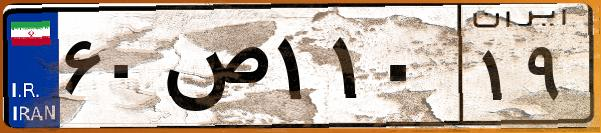0: (385, 28, 445, 110), (110, 28, 158, 98)
1: (270, 28, 330, 110), (330, 28, 385, 110), (475, 38, 525, 113)
6: (57, 26, 110, 100)
9: (525, 38, 570, 115)
ص: (158, 20, 270, 120)
